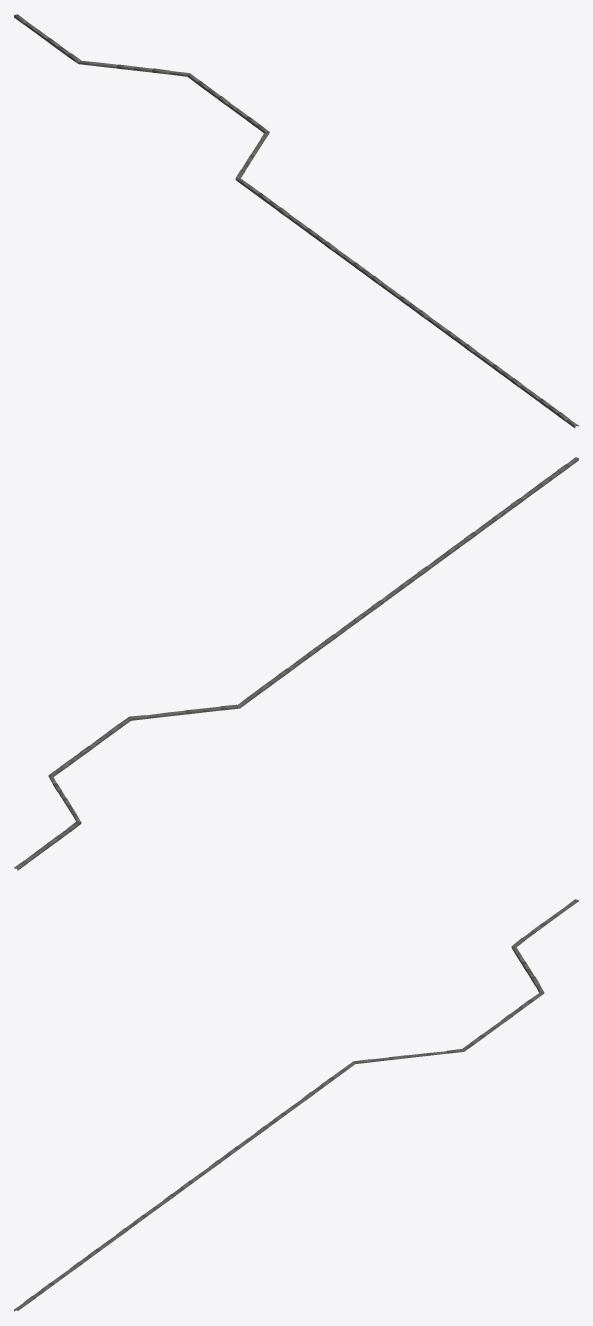
The model's file is SM_ENV_LKNVLD_Ground_Right_SideTrim_RoadSide.FBX.
The picture shows the model from 3 angles, top to bottom: view 1: azimuth 30°, elevation 25°; view 2: azimuth 150°, elevation 25°; view 3: azimuth 330°, elevation 25°; orthographic projection.
Visible parts, largest first — view 1: SM_ENV_LKNVLD_Ground_Right_SideTrim_RoadSide; view 2: SM_ENV_LKNVLD_Ground_Right_SideTrim_RoadSide; view 3: SM_ENV_LKNVLD_Ground_Right_SideTrim_RoadSide.
Part boxes in pixels (x1,y1,x2,y2): SM_ENV_LKNVLD_Ground_Right_SideTrim_RoadSide: [14, 14, 578, 427]; SM_ENV_LKNVLD_Ground_Right_SideTrim_RoadSide: [14, 457, 578, 870]; SM_ENV_LKNVLD_Ground_Right_SideTrim_RoadSide: [14, 899, 578, 1311].
Bounding box in the file's own units: 935 × 31.42 × 12398.
